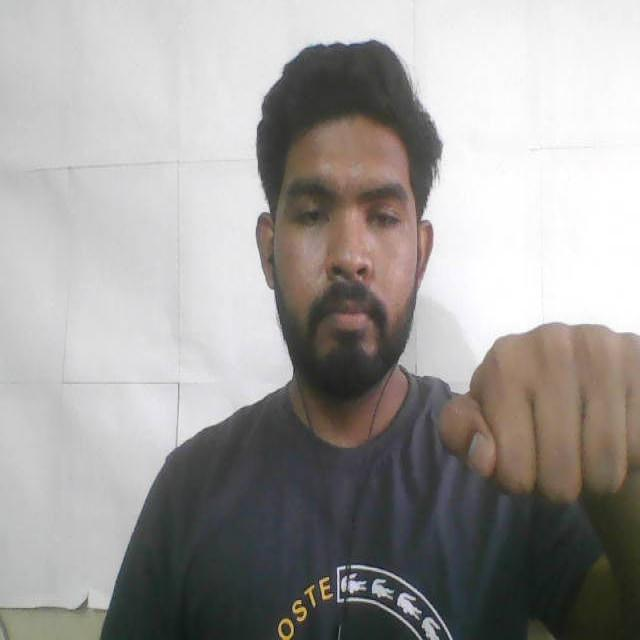Yes: (428, 304, 640, 533)
